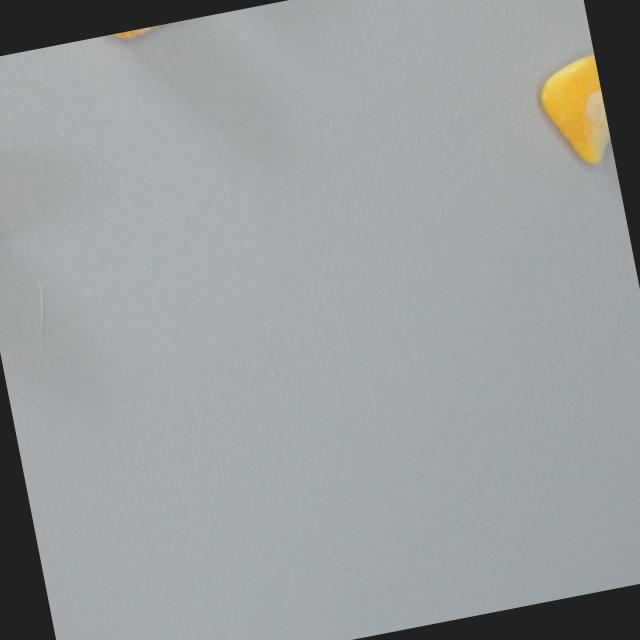no_desgerminado: (532, 51, 615, 173)
